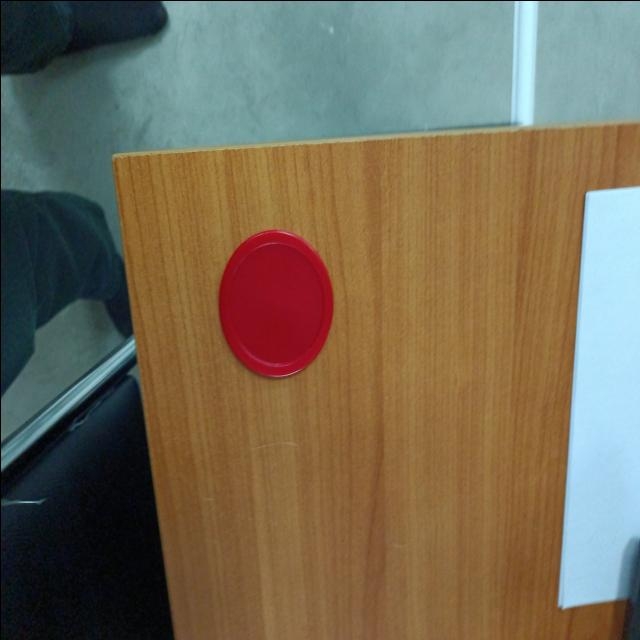chip: (215, 230, 334, 382)
